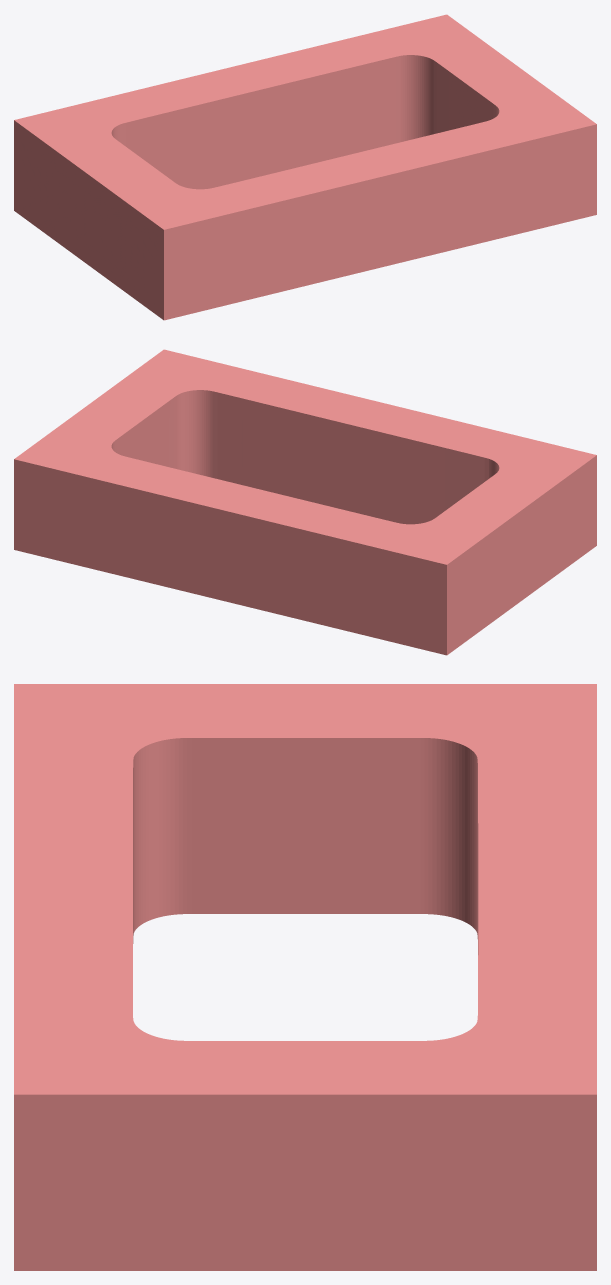
The model's file is GoggleTube.fbx.
3 renders of one model, top to bottom at view 1: azimuth 30°, elevation 25°; view 2: azimuth 150°, elevation 25°; view 3: azimuth 270°, elevation 25°, orthographic. The views are drawn at different scales.
Visible parts, largest first — view 1: Red; view 2: Red; view 3: Red.
Part boxes in pixels (left/top/right/bottom): Red: left=14, top=14, right=596, bottom=320; Red: left=14, top=349, right=596, bottom=655; Red: left=14, top=684, right=596, bottom=1270.
Bounding box in the file's own units: 20 × 12 × 4.
